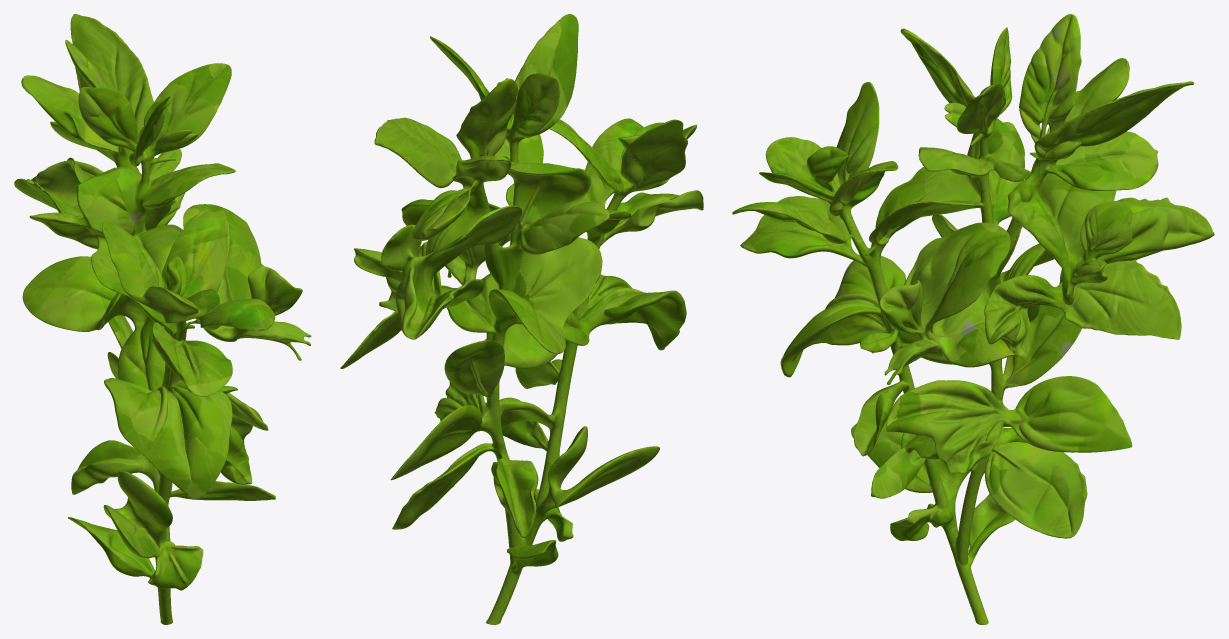
File: peppermint.glb
The picture shows the model from 3 angles, left to right: view 1: azimuth 30°, elevation 25°; view 2: azimuth 150°, elevation 25°; view 3: azimuth 270°, elevation 25°; orthographic projection. The views are drawn at different scales.
Visible parts, largest first — view 1: tripo_node_b60bba27-3f5d-4777-9282-adf4c37d270d; view 2: tripo_node_b60bba27-3f5d-4777-9282-adf4c37d270d; view 3: tripo_node_b60bba27-3f5d-4777-9282-adf4c37d270d.
Part boxes in pixels (bbox=[...]): tripo_node_b60bba27-3f5d-4777-9282-adf4c37d270d: bbox=[14, 14, 311, 624]; tripo_node_b60bba27-3f5d-4777-9282-adf4c37d270d: bbox=[340, 14, 703, 624]; tripo_node_b60bba27-3f5d-4777-9282-adf4c37d270d: bbox=[732, 14, 1214, 624].
Size of the model in its own units: 0.4227 by 1 by 0.7546.
Materials: 1 (1 with a texture image).
